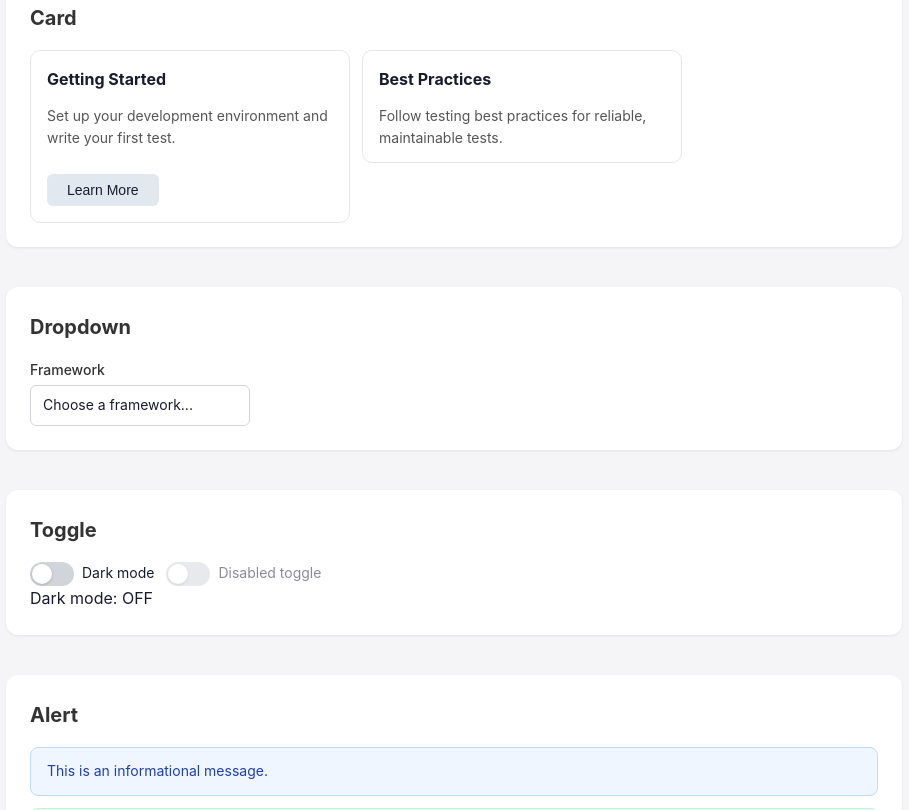
Test: Integration: App (all fixes) › Dropdown: selecting option updates "Selected:" text
(page scrolled)
Step 1. Click the dropdown labelled "Choose a framework..." → (140, 405), box [30,385,250,426]
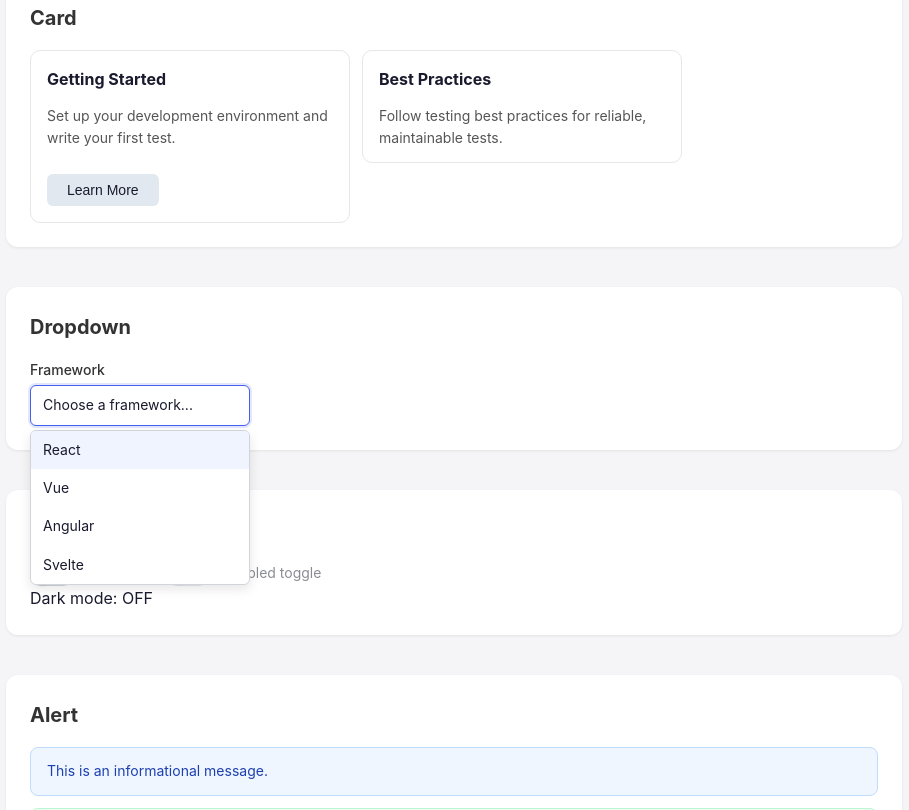
Step 2. Click the option "Vue" → (56, 487), box [43,479,69,496]
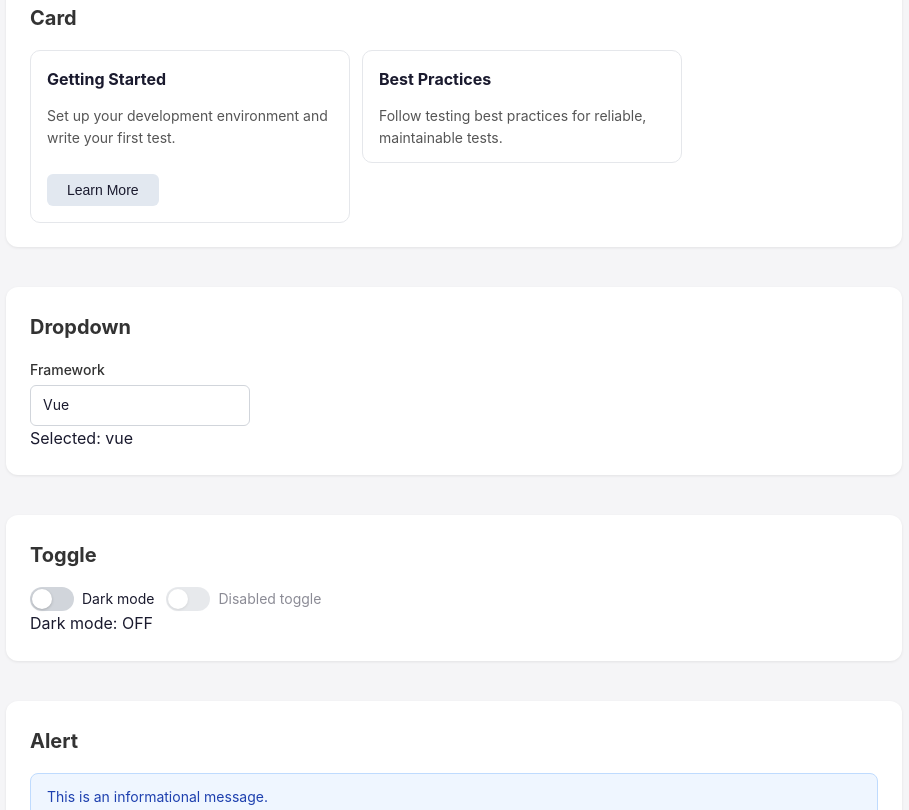
Result: the text "Selected: vue" is shown at [30,428,133,448]
